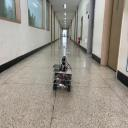cart: (52, 66, 72, 92)
